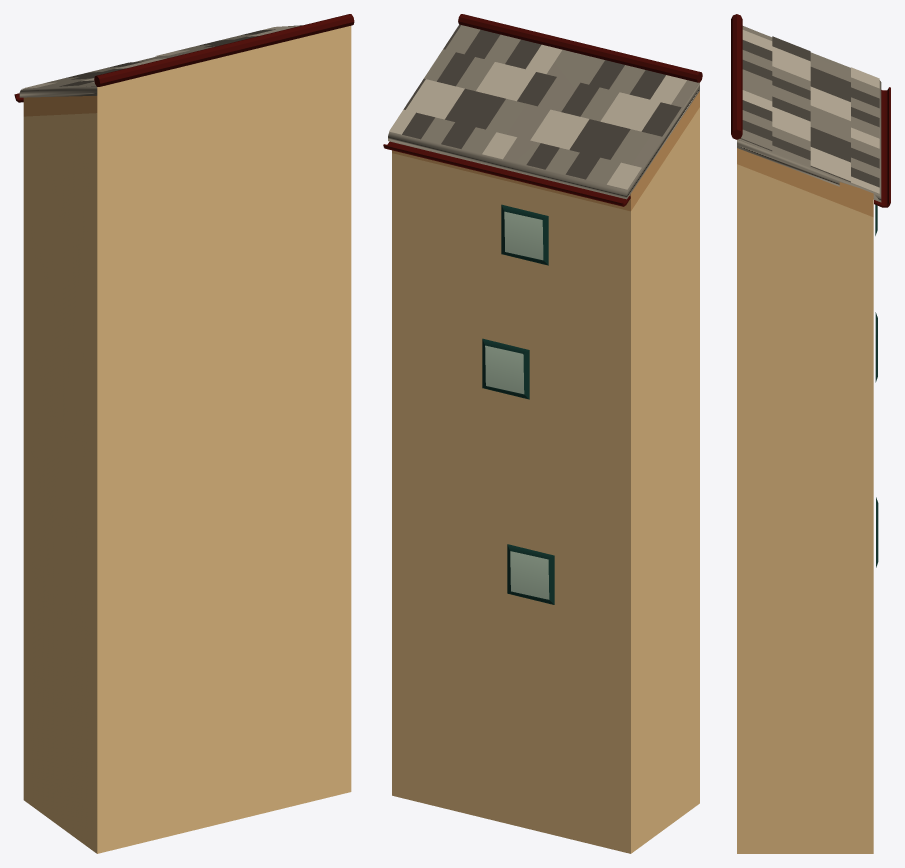
Rendered from house_01.fbx.
3 views of the same model, side by side, from view 1: azimuth 30°, elevation 25°; view 2: azimuth 150°, elevation 25°; view 3: azimuth 270°, elevation 25° (orthographic). The views are drawn at different scales.
Parts seen in each view (by area): view 1: house_01; view 2: house_01; view 3: house_01.
Boxes of the visible parts, x1=… form: house_01: x1=14, y1=14, x2=354, y2=853; house_01: x1=383, y1=14, x2=702, y2=853; house_01: x1=731, y1=14, x2=890, y2=853.
Bounding box in the file's own units: 20 × 58.47 × 11.68.
